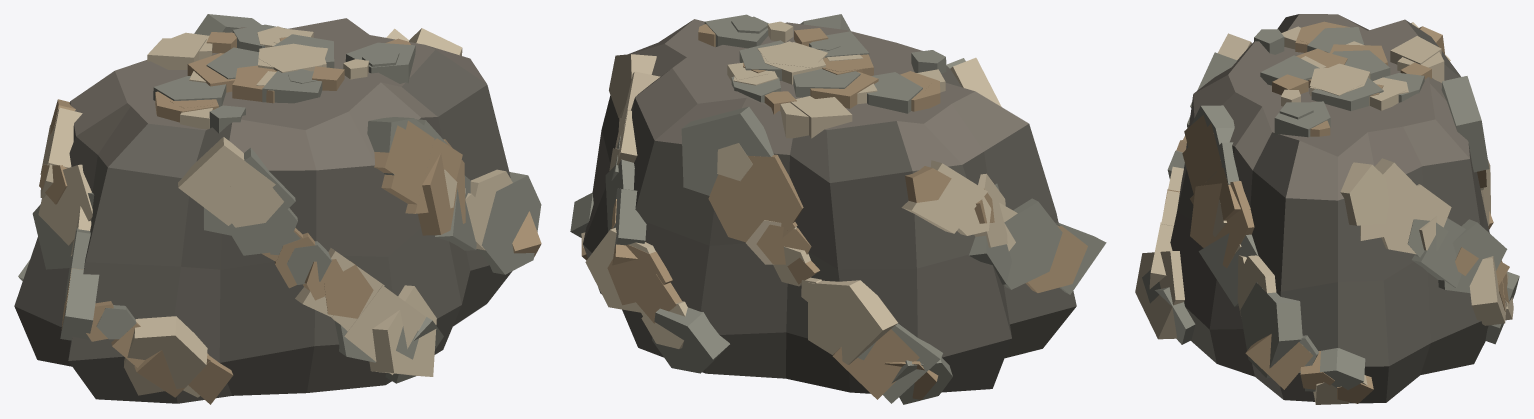
Rendered from breccia-outcrop.glb.
The picture shows the model from 3 angles, left to right: view 1: azimuth 30°, elevation 25°; view 2: azimuth 150°, elevation 25°; view 3: azimuth 270°, elevation 25°; orthographic projection. The views are drawn at different scales.
Parts seen in each view (by area): view 1: coherent_angular_matrix_outcrop, embedded_angular_surface_fragments, embedded_angular_surface_fragments.002, embedded_angular_surface_fragments.001, embedded_angular_crown_fragments.002, embedded_angular_crown_fragments, embedded_angular_crown_fragments.001; view 2: coherent_angular_matrix_outcrop, embedded_angular_surface_fragments.002, embedded_angular_surface_fragments, embedded_angular_surface_fragments.001, embedded_angular_crown_fragments.002, embedded_angular_crown_fragments, embedded_angular_crown_fragments.001; view 3: coherent_angular_matrix_outcrop, embedded_angular_surface_fragments.002, embedded_angular_surface_fragments, embedded_angular_surface_fragments.001, embedded_angular_crown_fragments.002, embedded_angular_crown_fragments, embedded_angular_crown_fragments.001.
Boxes of the visible parts, x1,y1,x2,y2 form: coherent_angular_matrix_outcrop: (14, 18, 512, 403); embedded_angular_surface_fragments: (38, 28, 512, 397); embedded_angular_surface_fragments.002: (18, 14, 541, 383); embedded_angular_surface_fragments.001: (39, 99, 541, 404); embedded_angular_crown_fragments.002: (153, 24, 415, 133); embedded_angular_crown_fragments: (147, 26, 368, 129); embedded_angular_crown_fragments.001: (155, 32, 410, 122); coherent_angular_matrix_outcrop: (583, 19, 1076, 393); embedded_angular_surface_fragments.002: (570, 14, 1106, 404); embedded_angular_surface_fragments: (581, 54, 1017, 364); embedded_angular_surface_fragments.001: (581, 154, 1087, 399); embedded_angular_crown_fragments.002: (704, 14, 946, 113); embedded_angular_crown_fragments: (727, 21, 945, 138); embedded_angular_crown_fragments.001: (698, 24, 940, 114); coherent_angular_matrix_outcrop: (1170, 14, 1489, 403); embedded_angular_surface_fragments.002: (1142, 52, 1519, 391); embedded_angular_surface_fragments: (1135, 22, 1513, 404); embedded_angular_surface_fragments.001: (1163, 26, 1509, 403); embedded_angular_crown_fragments.002: (1254, 27, 1424, 137); embedded_angular_crown_fragments: (1281, 26, 1444, 110); embedded_angular_crown_fragments.001: (1272, 21, 1431, 136).
Size of the model in its own units: 3.68 by 1.91 by 2.65.
